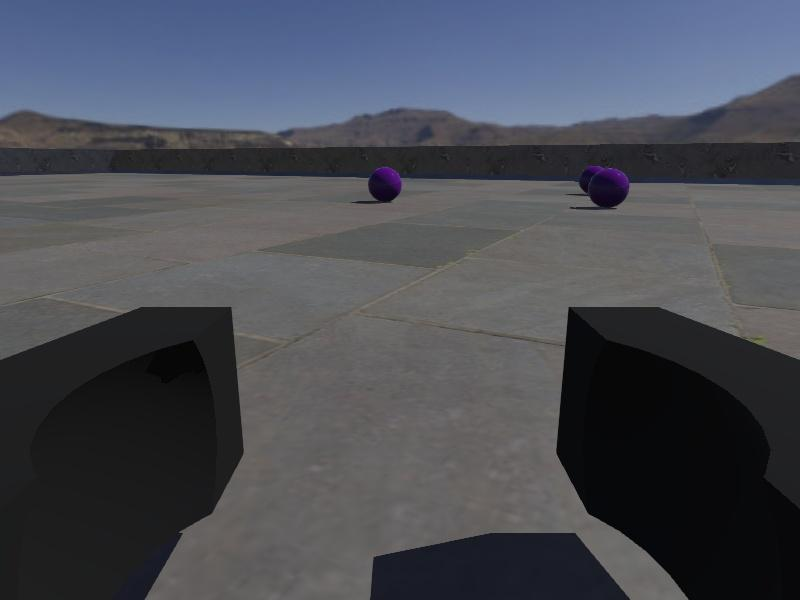violet ball: (590, 167, 629, 208), (368, 167, 402, 201)
